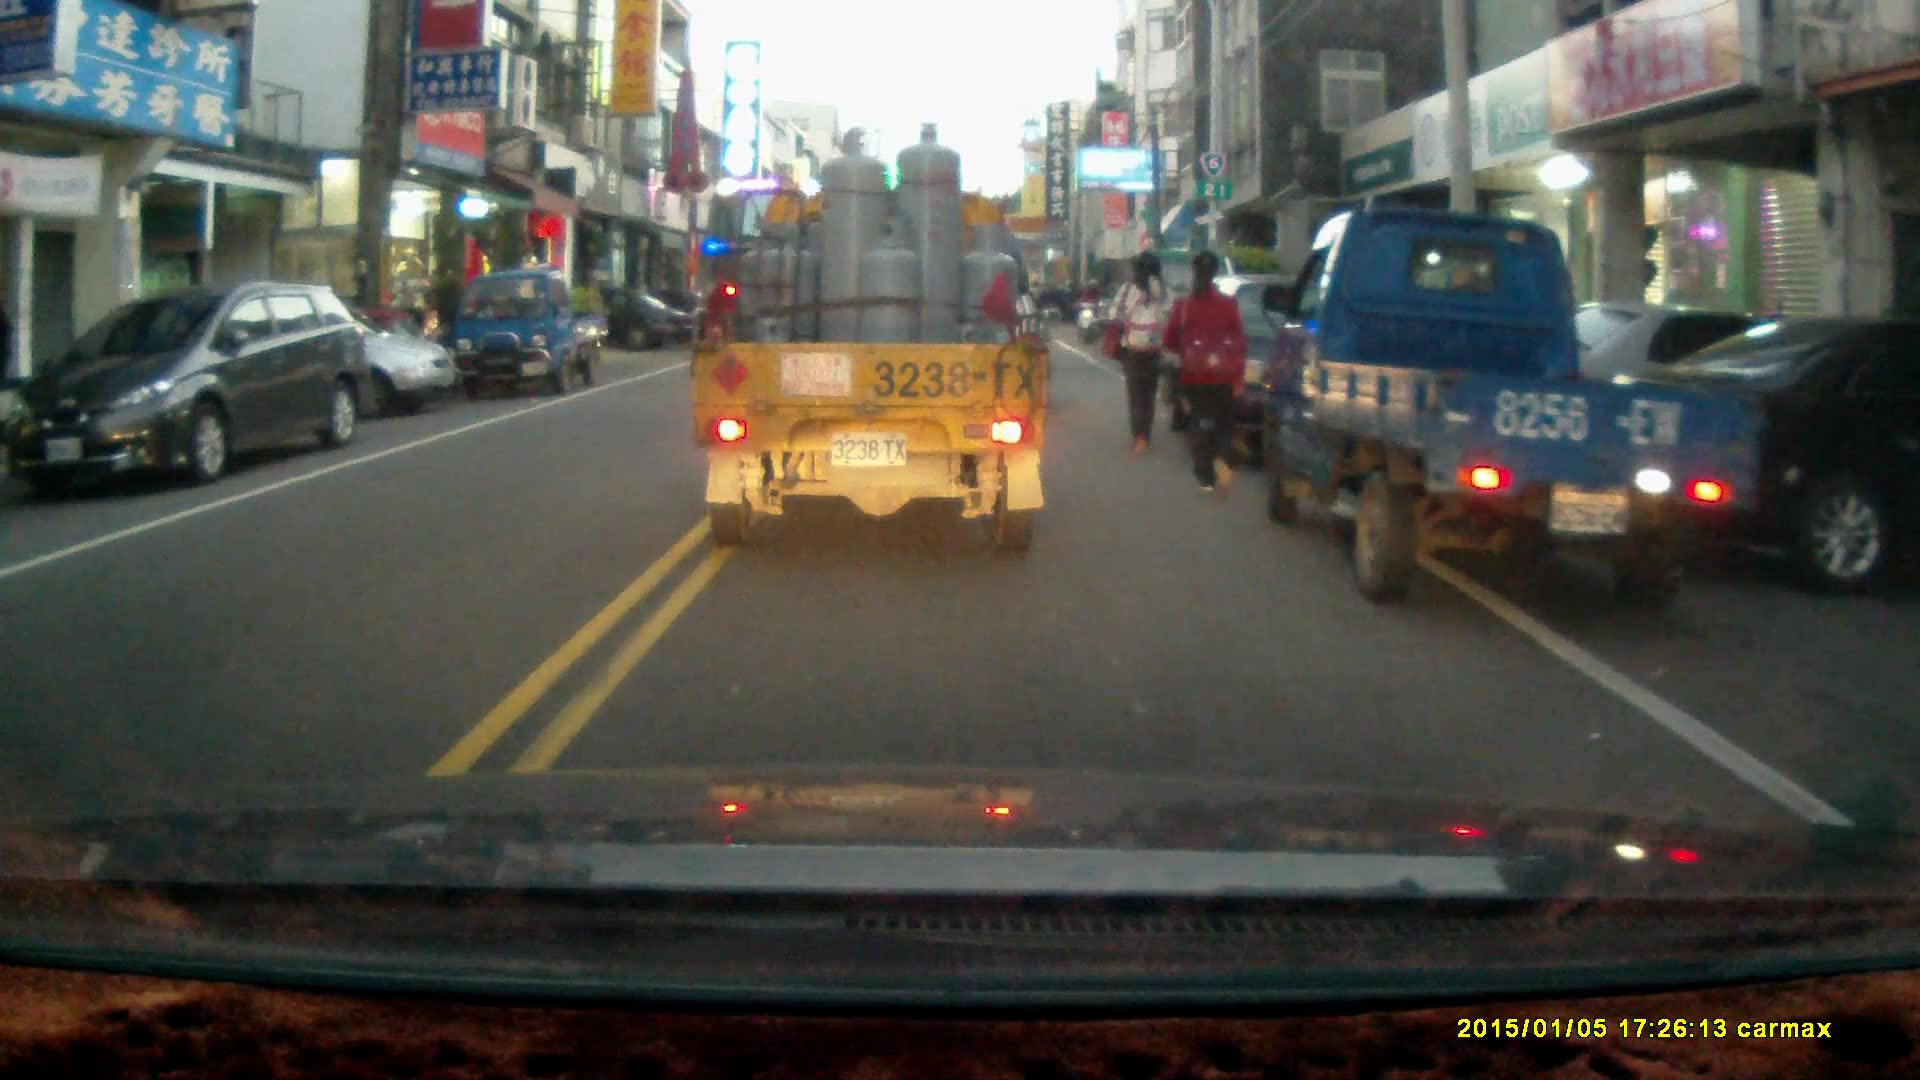pedestrian: (1160, 251, 1246, 496), (1105, 246, 1175, 452)
rider: (1072, 275, 1104, 342)
vehicle: (1260, 206, 1758, 624), (690, 122, 1052, 556), (6, 281, 366, 489), (1167, 271, 1418, 459), (165, 295, 461, 427), (450, 274, 601, 403)
